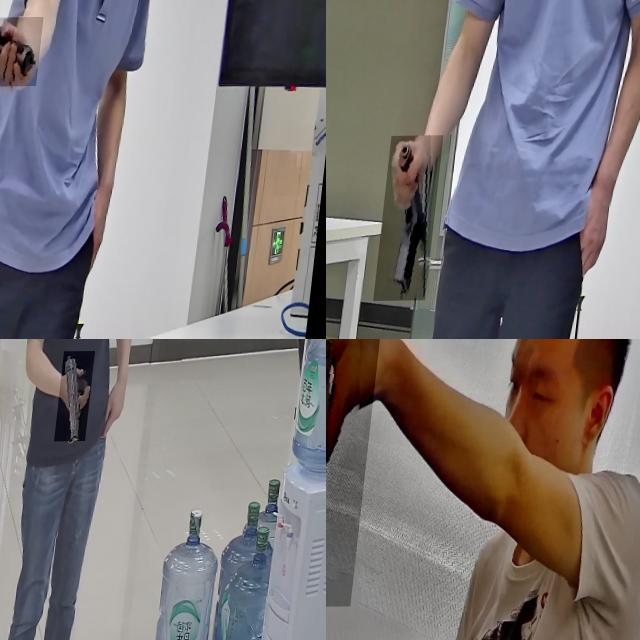gun-knife-thesis - v11 Yolov5 augmented: (326, 339, 386, 608), (383, 136, 450, 302), (0, 17, 54, 88), (61, 352, 100, 442)
